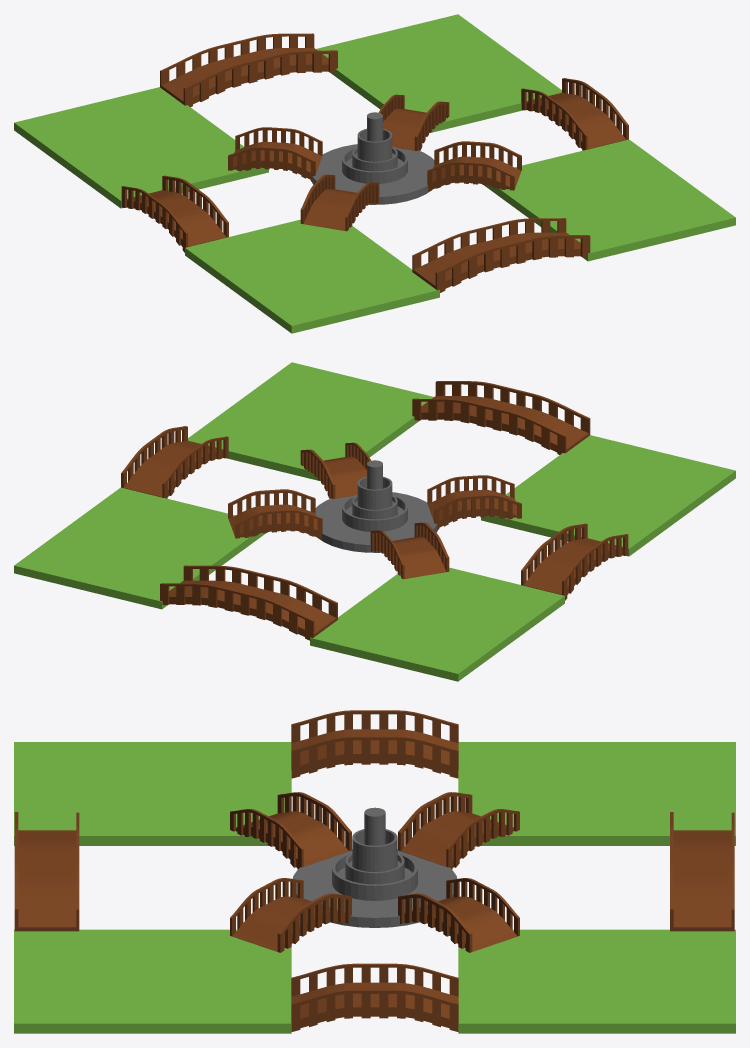
File: VR Museum.fbx
3 views of the same model, one above another, from view 1: azimuth 30°, elevation 25°; view 2: azimuth 150°, elevation 25°; view 3: azimuth 270°, elevation 25° (orthographic). The views are drawn at different scales.
Parts seen in each view (by area): view 1: Cube, Cube.002, Cube.001, Cube.003, Plane, Plane.002, Plane.001, Cylinder, Plane.003, Plane.004; view 2: Cube.001, Cube.003, Cube, Cube.002, Plane, Plane.001, Plane.002, Cylinder, Plane.003, Plane.004; view 3: Cube.002, Cube.003, Cube, Cube.001, Plane, Cylinder, Plane.004, Plane.003, Plane.002, Plane.001.
Boxes of the visible parts, x1,y1,x2,y2 form: Cube: [185, 219, 439, 333]; Cube.002: [484, 139, 735, 261]; Cube.001: [14, 87, 268, 208]; Cube.003: [316, 14, 561, 133]; Plane: [228, 94, 521, 231]; Plane.002: [412, 218, 590, 292]; Plane.001: [160, 33, 337, 107]; Cylinder: [312, 112, 434, 204]; Plane.003: [121, 175, 228, 252]; Plane.004: [521, 78, 628, 150]; Cube.001: [310, 567, 564, 681]; Cube.003: [14, 487, 265, 609]; Cube: [481, 435, 735, 556]; Cube.002: [188, 362, 433, 481]; Plane: [228, 442, 521, 579]; Plane.001: [160, 565, 337, 640]; Plane.002: [412, 381, 590, 454]; Cylinder: [315, 460, 437, 552]; Plane.003: [521, 523, 628, 600]; Plane.004: [121, 426, 228, 498]; Cube.002: [14, 929, 291, 1033]; Cube.003: [458, 929, 735, 1033]; Cube: [14, 742, 291, 845]; Cube.001: [458, 742, 735, 845]; Plane: [230, 792, 519, 952]; Cylinder: [292, 807, 457, 927]; Plane.004: [291, 963, 458, 1031]; Plane.003: [291, 710, 458, 778]; Plane.002: [14, 812, 79, 931]; Plane.001: [670, 812, 734, 931].
Size of the model in its own units: 3658 by 488 by 3962.
